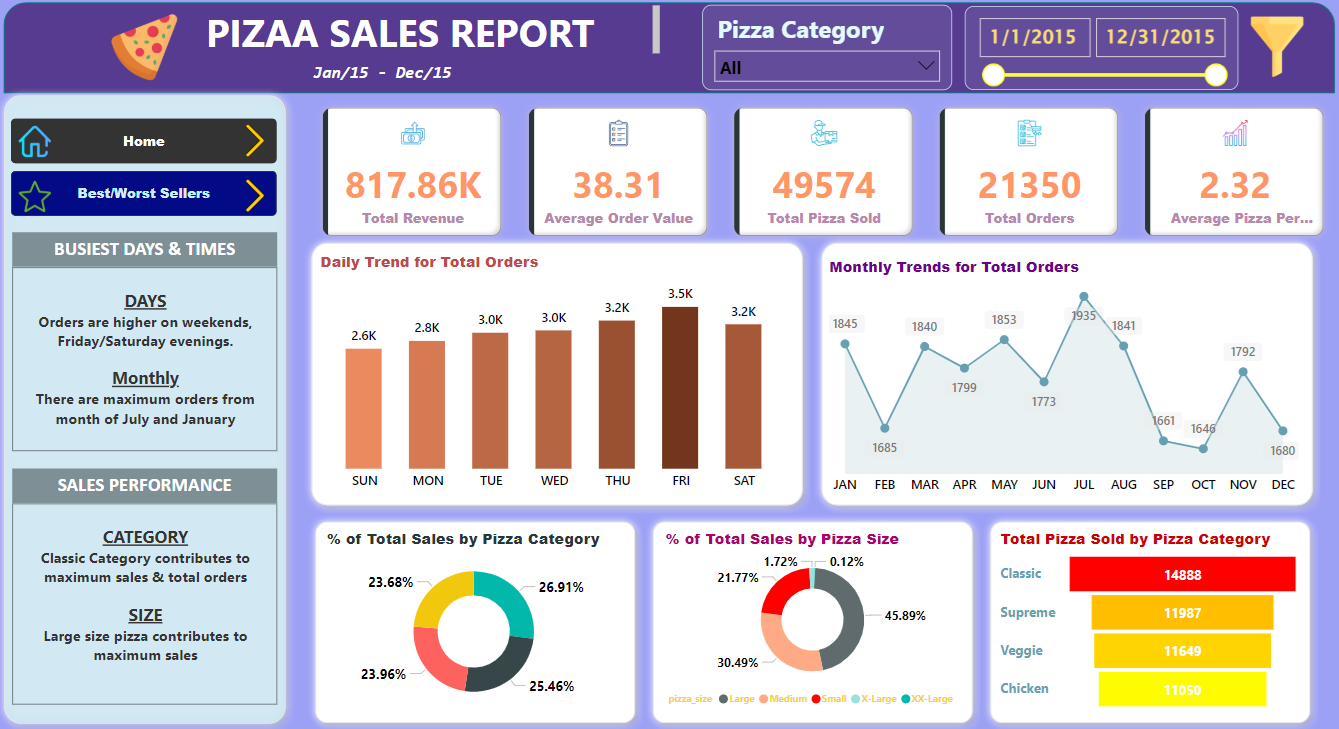

The page's visual inventory and layout, read from the dashboard file:
{"tool":"powerbi","page":{"name":"Home","canvas":[1500,820],"ordinal":0},"visuals":[{"type":"shape","box":[8.3,6.7,1483.3,101.7],"z":0},{"type":"shape","box":[341.9,266.7,565.2,310.6],"z":1000},{"type":"columnChart","title":"Daily Trend for Total Orders","fields":{"Category":["pizza_sales.Order Day"],"Y":["pizza_sales.Total Orders"]},"box":[356.9,284.5,531.8,275.8],"z":2000},{"type":"shape","box":[910.9,266.1,565.2,310.6],"z":3000},{"type":"areaChart","title":"Monthly Trends for Total Orders","fields":{"Category":["pizza_sales.Order Month"],"Y":["pizza_sales.Total Orders"]},"box":[923.3,290,533.3,275],"z":4000},{"type":"shape","box":[347.4,577,374.2,242.4],"z":5000},{"type":"shape","box":[723.1,577,374.2,242.4],"z":6000},{"type":"shape","box":[1098.9,577,374.2,242.4],"z":7000},{"type":"donutChart","title":"% of Total Sales by Pizza Category","fields":{"Category":["pizza_sales.pizza_category"],"Y":["pizza_sales.Total Revenue"]},"box":[363.9,593.3,337.9,207.6],"z":8000},{"type":"donutChart","title":"% of Total Sales by Pizza Size","fields":{"Y":["pizza_sales.Total Revenue"],"Category":["pizza_sales.pizza_size"]},"box":[741.2,593.3,337.9,207.6],"z":9000},{"type":"funnel","title":"Total Pizza Sold by Pizza Category","fields":{"Category":["pizza_sales.pizza_category"],"Y":["pizza_sales.Total Pizza Sold"]},"box":[1113.9,593.3,343.9,207.6],"z":10000},{"type":"shape","box":[0,101.5,331.8,718.2],"z":11000},{"type":"textbox","box":[17.7,263.3,295.2,38.7],"z":12000},{"type":"textbox","box":[17.7,302,295.2,204.8],"z":13000},{"type":"textbox","box":[17.7,526.2,295.2,38.7],"z":14000},{"type":"textbox","box":[17.7,564.9,295.2,224.2],"z":15000},{"type":"pageNavigator","box":[16.7,136.4,297,50],"z":16000},{"type":"pageNavigator","box":[16.1,195.2,296.8,50],"z":17000},{"type":"image","box":[265.2,198.5,48.5,47],"z":18000},{"type":"image","box":[18.2,139.4,50,45.5],"z":19000},{"type":"image","box":[265.2,137.9,48.5,47],"z":20000},{"type":"image","box":[18.2,200,50,45.5],"z":21000},{"type":"textbox","box":[165,5,580,65],"z":22000},{"type":"slicer","fields":{"Values":["pizza_sales.order_date"]},"box":[1080,11.7,305,93.3],"z":23000},{"type":"image","box":[1353.3,18.3,146.7,76.7],"z":24000},{"type":"textbox","box":[348.3,70,268.3,46.7],"z":25000},{"type":"image","box":[98.3,13.3,133.3,86.7],"z":26000},{"type":"slicer","fields":{"Values":["pizza_sales.pizza_category"]},"box":[786.7,10,278.3,95],"z":27000},{"type":"cardVisual","fields":{"Data":["pizza_sales.Total Revenue","pizza_sales.Average Order Value","pizza_sales.Total Pizza Sold","pizza_sales.Total Orders","pizza_sales.Average Pizza Per Order"]},"box":[348.3,108.3,1151.7,175],"z":28000}]}

Visuals, with their boxes in screenshot pixels (x1, y1, x2, y2), scaled from the page's 1500x820 canvas onto the 1339x729 screenshot:
shape: {"left": 7, "top": 6, "right": 1332, "bottom": 96}
shape: {"left": 305, "top": 237, "right": 810, "bottom": 513}
"Daily Trend for Total Orders" columnChart: {"left": 319, "top": 253, "right": 793, "bottom": 498}
shape: {"left": 813, "top": 237, "right": 1318, "bottom": 513}
"Monthly Trends for Total Orders" areaChart: {"left": 824, "top": 258, "right": 1300, "bottom": 502}
shape: {"left": 310, "top": 513, "right": 644, "bottom": 728}
shape: {"left": 645, "top": 513, "right": 980, "bottom": 728}
shape: {"left": 981, "top": 513, "right": 1315, "bottom": 728}
"% of Total Sales by Pizza Category" donutChart: {"left": 325, "top": 527, "right": 626, "bottom": 712}
"% of Total Sales by Pizza Size" donutChart: {"left": 662, "top": 527, "right": 963, "bottom": 712}
"Total Pizza Sold by Pizza Category" funnel: {"left": 994, "top": 527, "right": 1301, "bottom": 712}
shape: {"left": 0, "top": 90, "right": 296, "bottom": 728}
textbox: {"left": 16, "top": 234, "right": 279, "bottom": 268}
textbox: {"left": 16, "top": 268, "right": 279, "bottom": 451}
textbox: {"left": 16, "top": 468, "right": 279, "bottom": 502}
textbox: {"left": 16, "top": 502, "right": 279, "bottom": 702}
pageNavigator: {"left": 15, "top": 121, "right": 280, "bottom": 166}
pageNavigator: {"left": 14, "top": 174, "right": 279, "bottom": 218}
image: {"left": 237, "top": 176, "right": 280, "bottom": 218}
image: {"left": 16, "top": 124, "right": 61, "bottom": 164}
image: {"left": 237, "top": 123, "right": 280, "bottom": 164}
image: {"left": 16, "top": 178, "right": 61, "bottom": 218}
textbox: {"left": 147, "top": 4, "right": 665, "bottom": 62}
slicer - pizza_sales.order_date: {"left": 964, "top": 10, "right": 1236, "bottom": 93}
image: {"left": 1208, "top": 16, "right": 1338, "bottom": 84}
textbox: {"left": 311, "top": 62, "right": 550, "bottom": 104}
image: {"left": 88, "top": 12, "right": 207, "bottom": 89}
slicer - pizza_sales.pizza_category: {"left": 702, "top": 9, "right": 951, "bottom": 93}
cardVisual - pizza_sales.Total Revenue x pizza_sales.Average Order Value: {"left": 311, "top": 96, "right": 1338, "bottom": 252}
